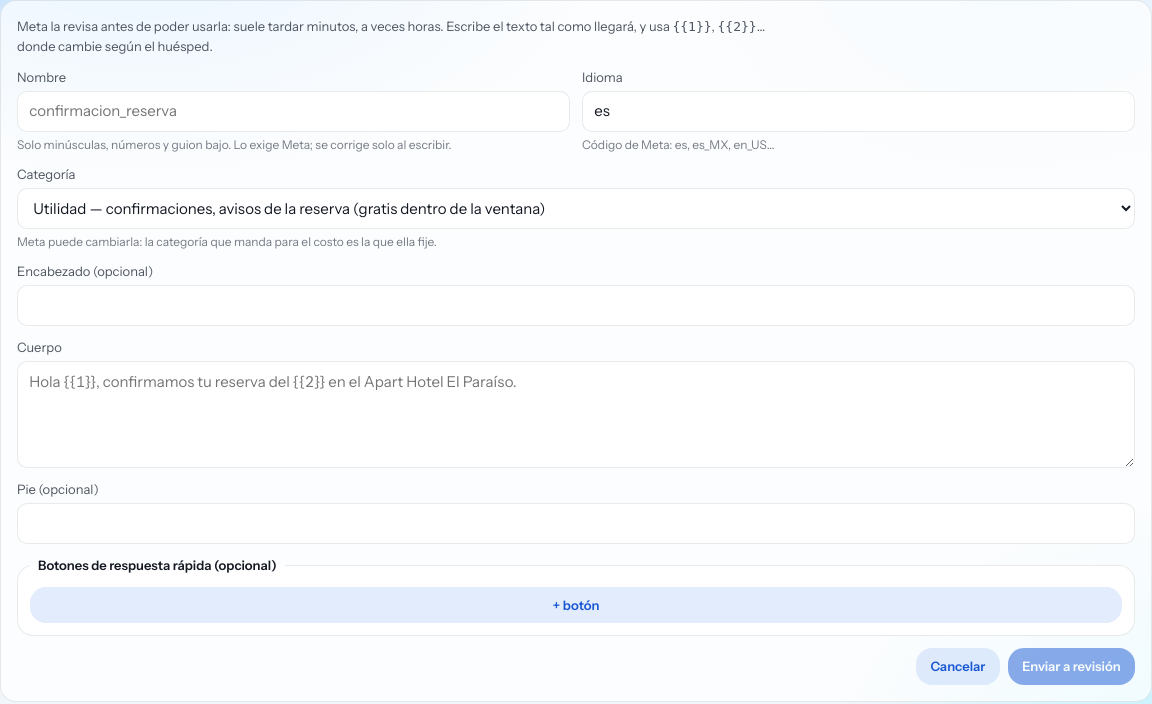
NuevaPlantilla › si Meta la rechaza, se muestra su motivo
Type "repetida" into the field labelled "Nombre".
click(294, 111); type("repetida")  # box [17,90,570,132]
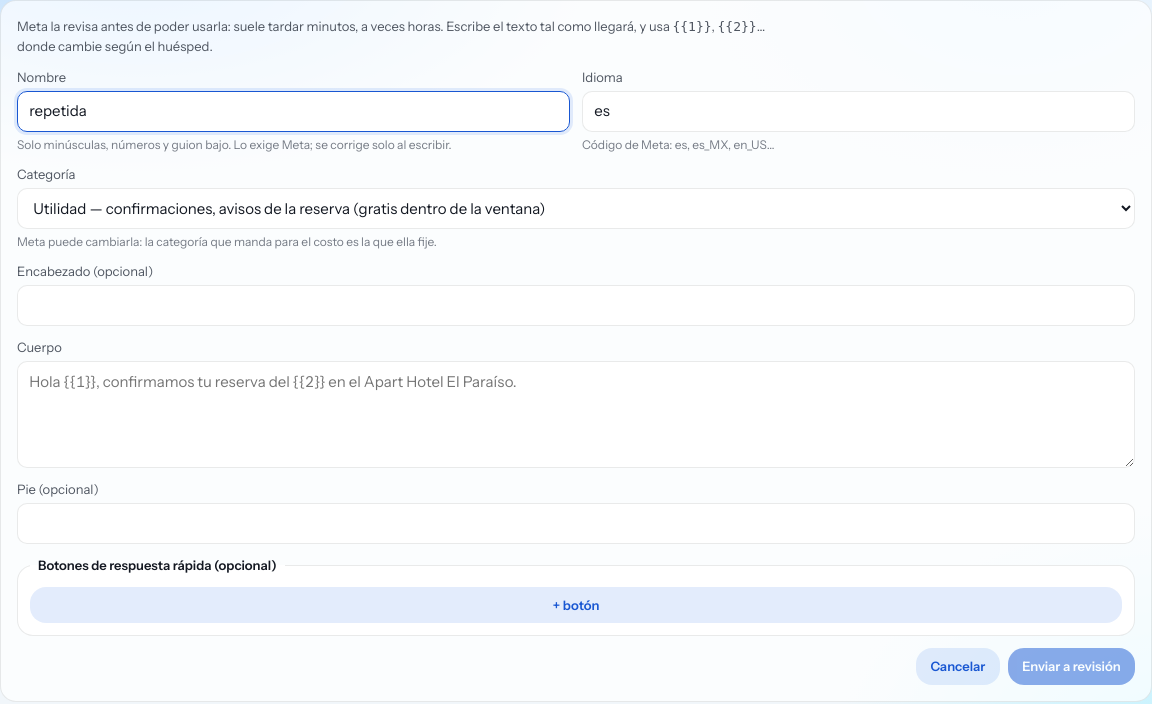
Type "Texto." into the text box labelled "Cuerpo".
click(576, 414); type("Texto.")  # box [17,361,1135,468]
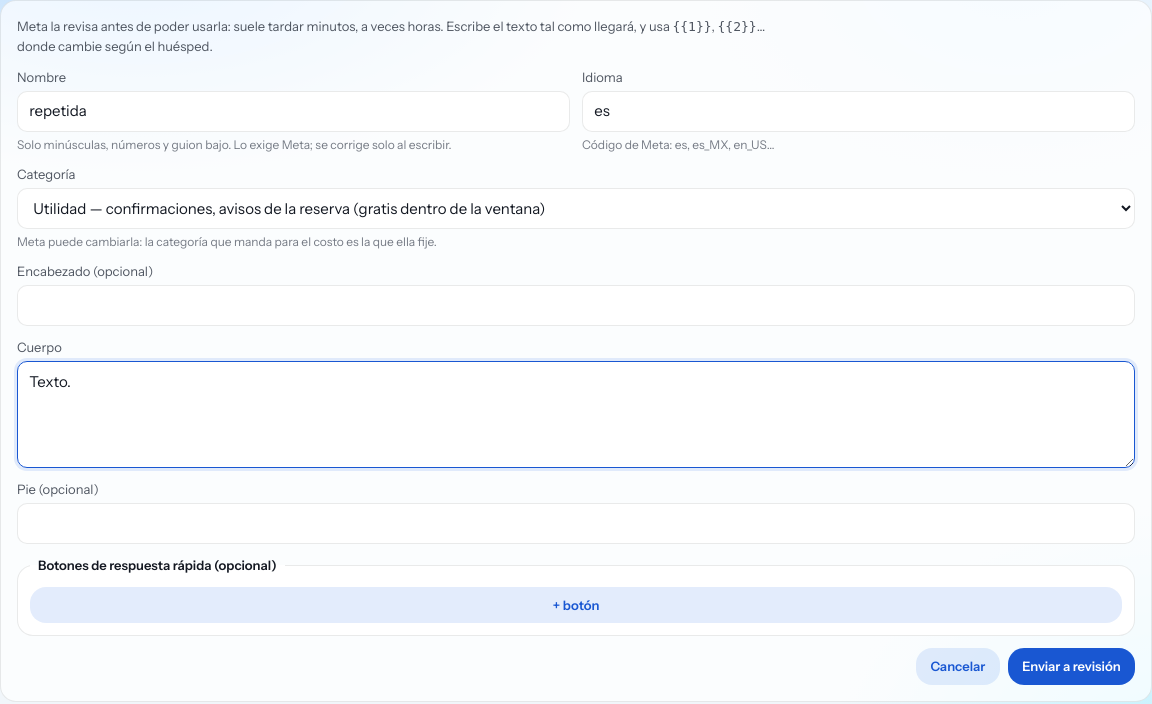
Click the button "Enviar a revisión".
click(1071, 666)  # box [1008,648,1135,685]
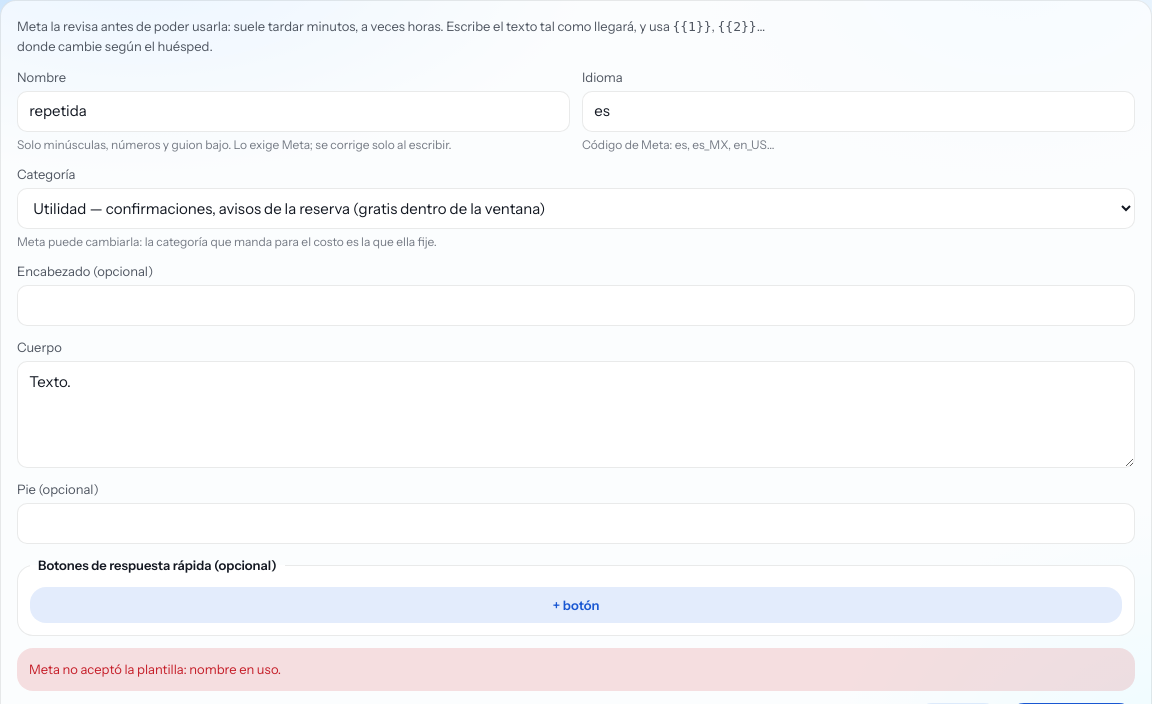
Check: the message shows "nombre en uso", box [29,661,281,677]
